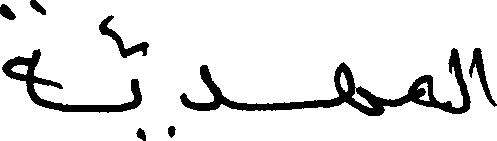ا: (470, 45, 495, 106)
ة: (0, 0, 65, 95)
د: (177, 62, 220, 111)
ل: (447, 45, 470, 114)
م: (409, 73, 436, 108)
ه: (332, 60, 383, 116)
ي: (129, 74, 178, 139)
